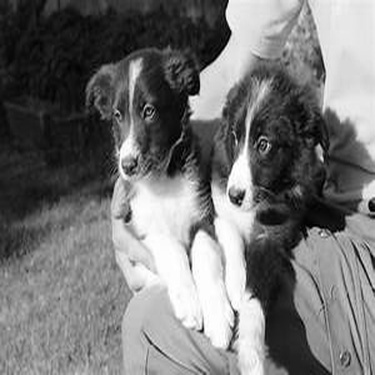dog: (53, 5, 236, 371), (188, 5, 334, 370)
